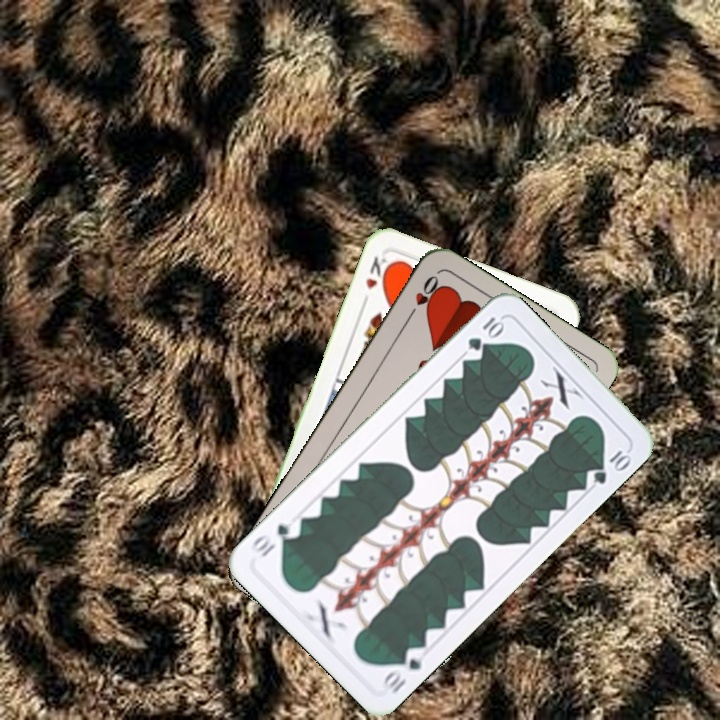G10: (379, 642, 429, 697), (463, 312, 507, 354)
HK: (361, 251, 395, 292)
HO: (403, 271, 443, 323)
